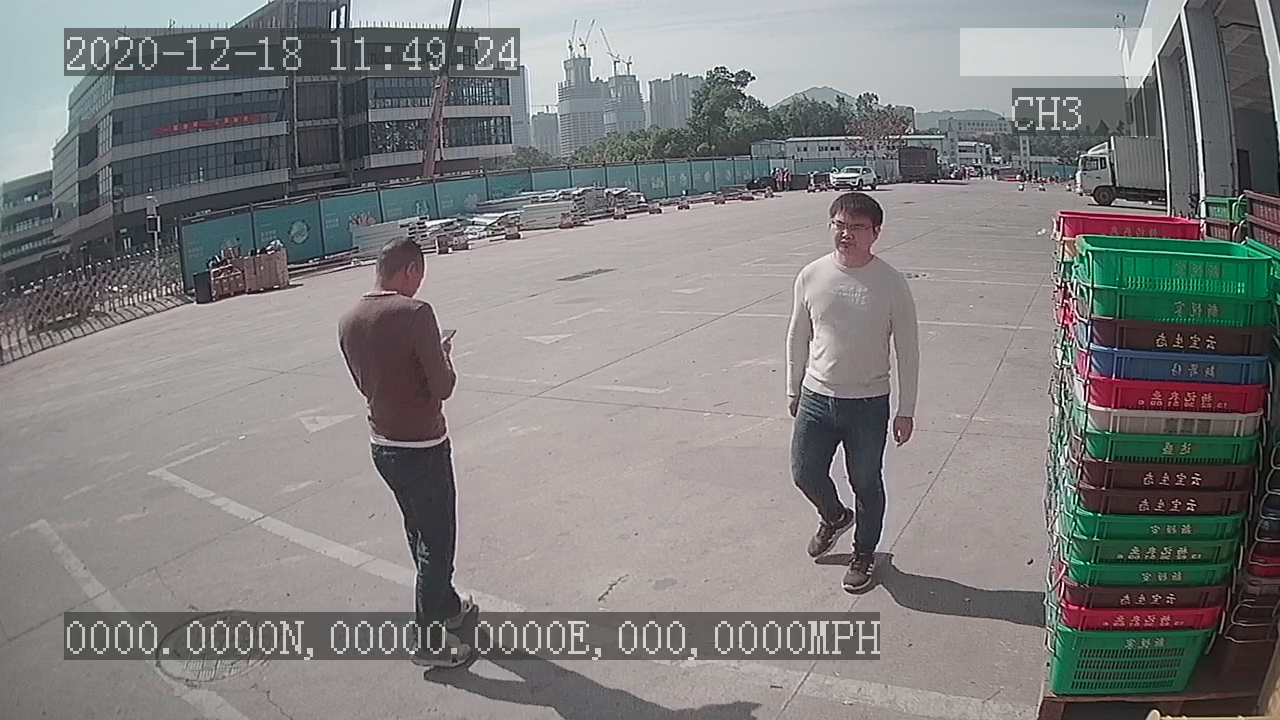person: (777, 185, 924, 599)
